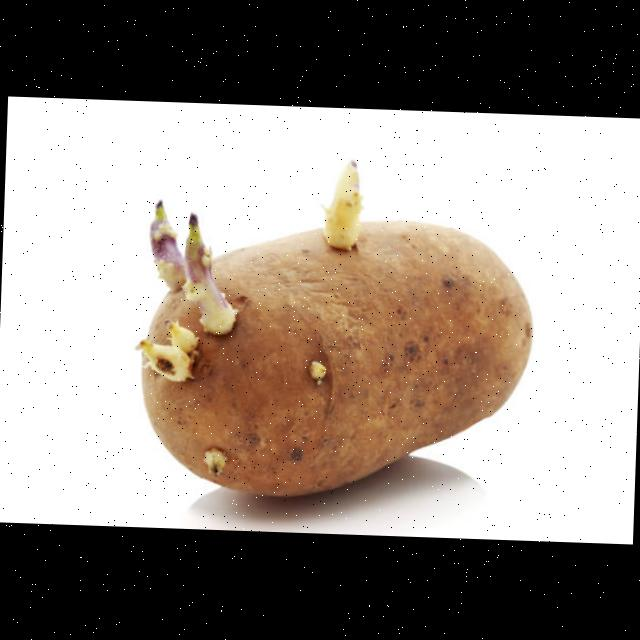Sprouted potato: (113, 143, 600, 530)
